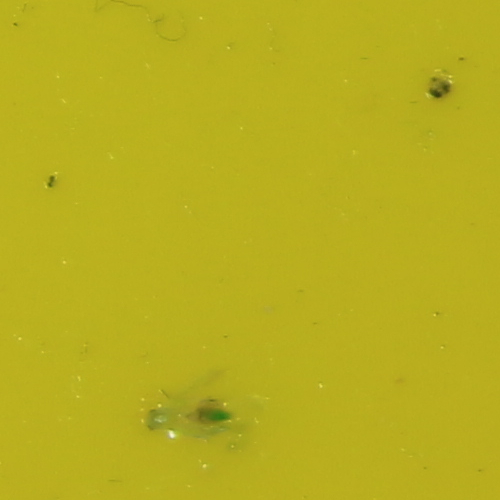psylla: (143, 406, 232, 428)
